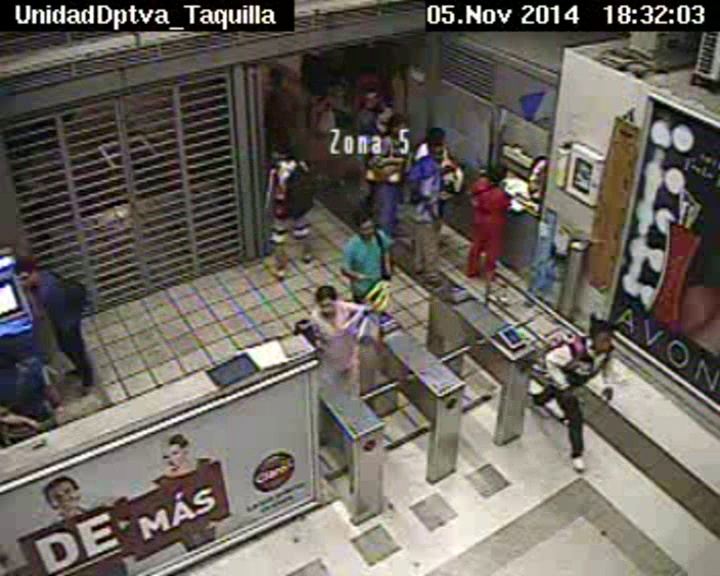person: (10, 255, 42, 286), (586, 322, 617, 353), (352, 209, 381, 239), (311, 285, 340, 314), (485, 156, 510, 182), (1, 335, 22, 361), (276, 137, 298, 160), (387, 113, 408, 137), (424, 127, 446, 149), (265, 65, 287, 87), (374, 102, 395, 123), (361, 85, 382, 106), (426, 141, 445, 163), (323, 92, 338, 108)
